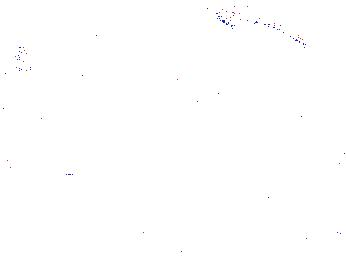X-ray fish: (2, 31, 36, 83)
glassfish: (210, 5, 321, 57)
